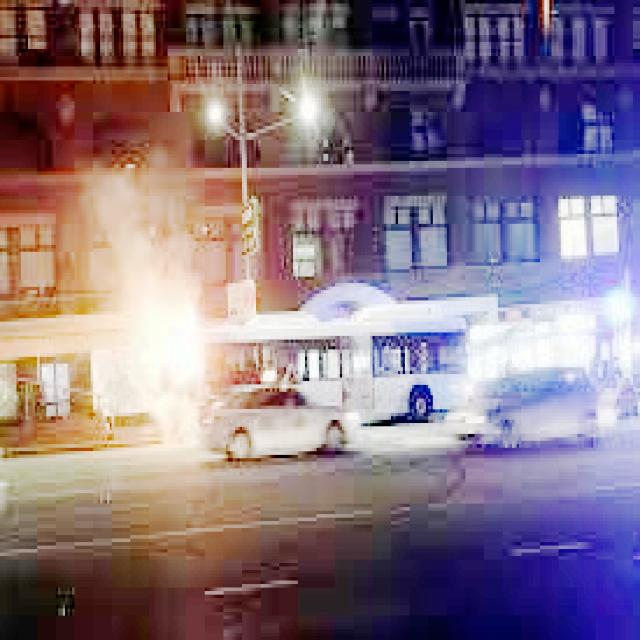api: (99, 221, 215, 456)
